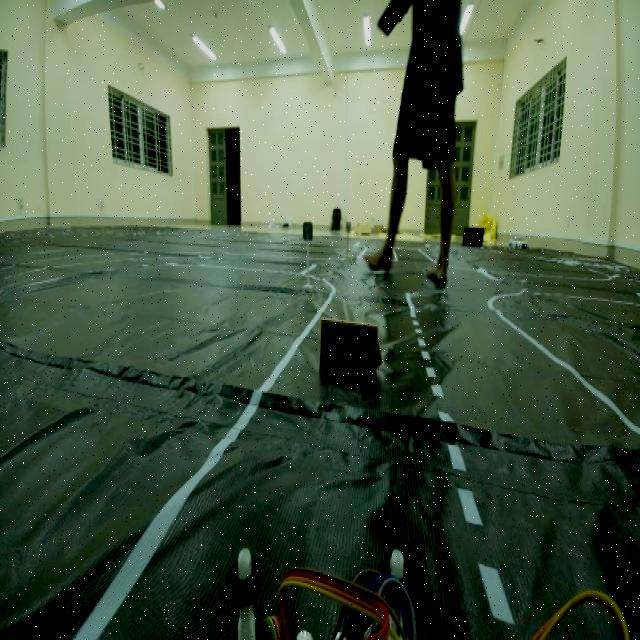roadblock: (308, 298, 394, 398)
